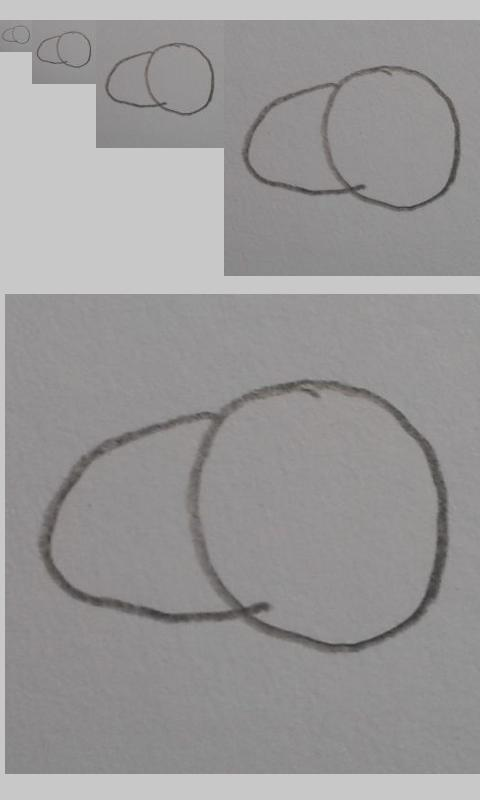switch: (37, 375, 451, 653), (242, 65, 463, 212), (105, 43, 217, 117), (36, 30, 92, 68), (1, 25, 31, 45)
